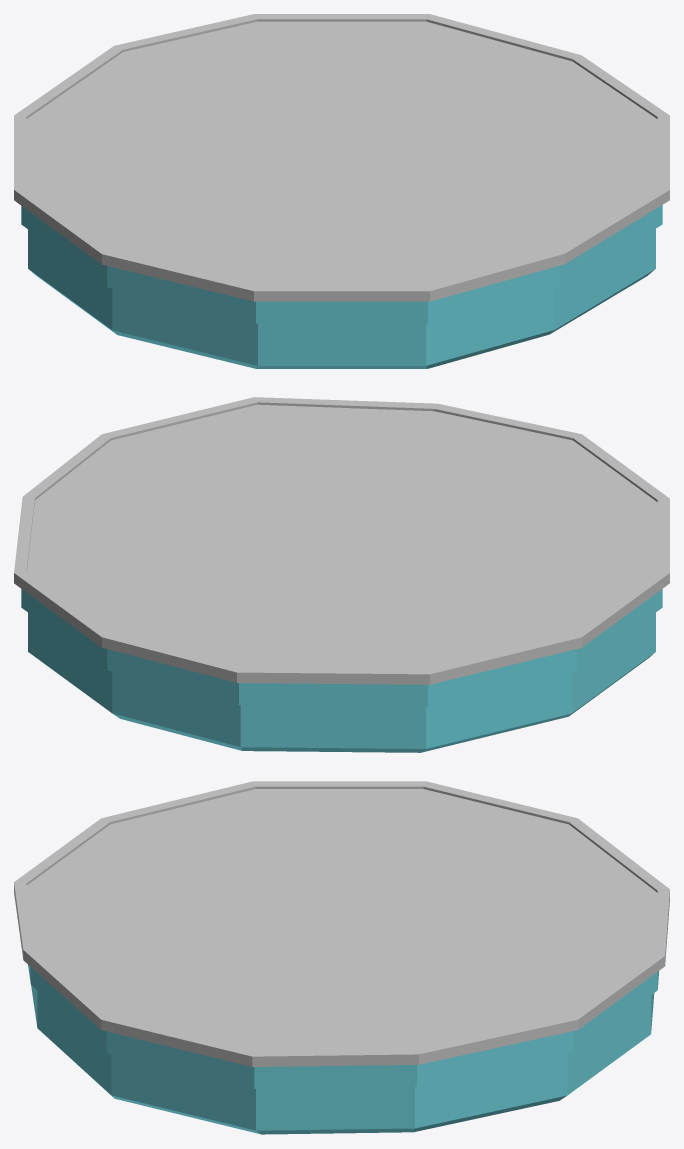
Rendered from SM_Sample_Bowl.gltf.
3 views of the same model, one above another, from view 1: azimuth 30°, elevation 25°; view 2: azimuth 150°, elevation 25°; view 3: azimuth 270°, elevation 25° (orthographic).
Parts seen in each view (by area): view 1: SM_Sample _Bowl_Lid, SM_Sample_Bowl; view 2: SM_Sample _Bowl_Lid, SM_Sample_Bowl; view 3: SM_Sample _Bowl_Lid, SM_Sample_Bowl.
Boxes of the visible parts, <box> form: SM_Sample _Bowl_Lid: <box>14,14,669,301</box>; SM_Sample_Bowl: <box>21,205,662,368</box>; SM_Sample _Bowl_Lid: <box>14,397,669,684</box>; SM_Sample_Bowl: <box>21,589,662,752</box>; SM_Sample _Bowl_Lid: <box>14,781,669,1066</box>; SM_Sample_Bowl: <box>28,965,658,1134</box>.
Bounding box in the file's own units: 0.1009 × 0.0148 × 0.1017.
